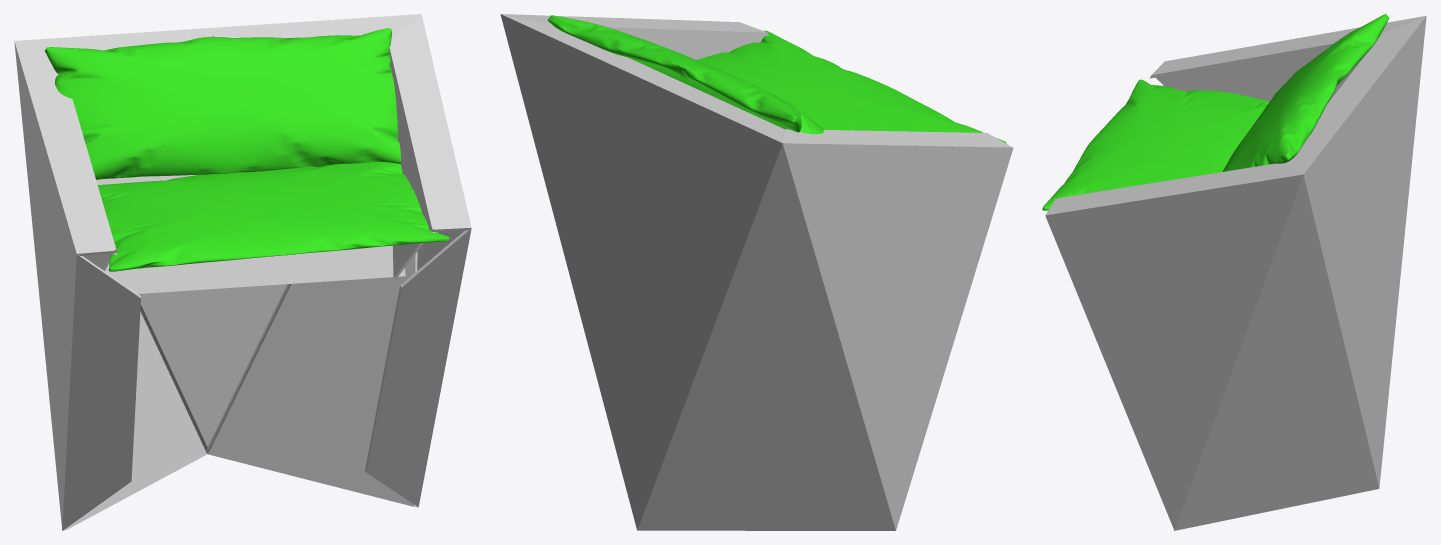
The model's file is Chair.glb.
3 renders of one model, left to right at view 1: azimuth 30°, elevation 25°; view 2: azimuth 150°, elevation 25°; view 3: azimuth 270°, elevation 25°, orthographic. The views are drawn at different scales.
Parts seen in each view (by area): view 1: chaise_salle_de_r_union_ARD_D2-node.012, Cube.025, Cube.024; view 2: chaise_salle_de_r_union_ARD_D2-node.012, Cube.024, Cube.025; view 3: chaise_salle_de_r_union_ARD_D2-node.012, Cube.024, Cube.025.
Boxes of the visible parts, x1,y1,x2,y2 form: chaise_salle_de_r_union_ARD_D2-node.012: [14, 14, 471, 530]; Cube.025: [45, 28, 400, 179]; Cube.024: [97, 162, 449, 271]; chaise_salle_de_r_union_ARD_D2-node.012: [500, 14, 1013, 530]; Cube.024: [697, 30, 1006, 143]; Cube.025: [547, 15, 824, 134]; chaise_salle_de_r_union_ARD_D2-node.012: [1045, 15, 1426, 530]; Cube.024: [1042, 79, 1269, 210]; Cube.025: [1222, 14, 1389, 171].
Size of the model in its own units: 6.09 by 6.11 by 5.25.
